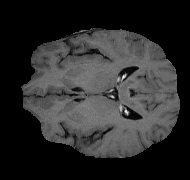Edema: (29, 97, 63, 122)
Necrosis: (28, 95, 62, 120)
